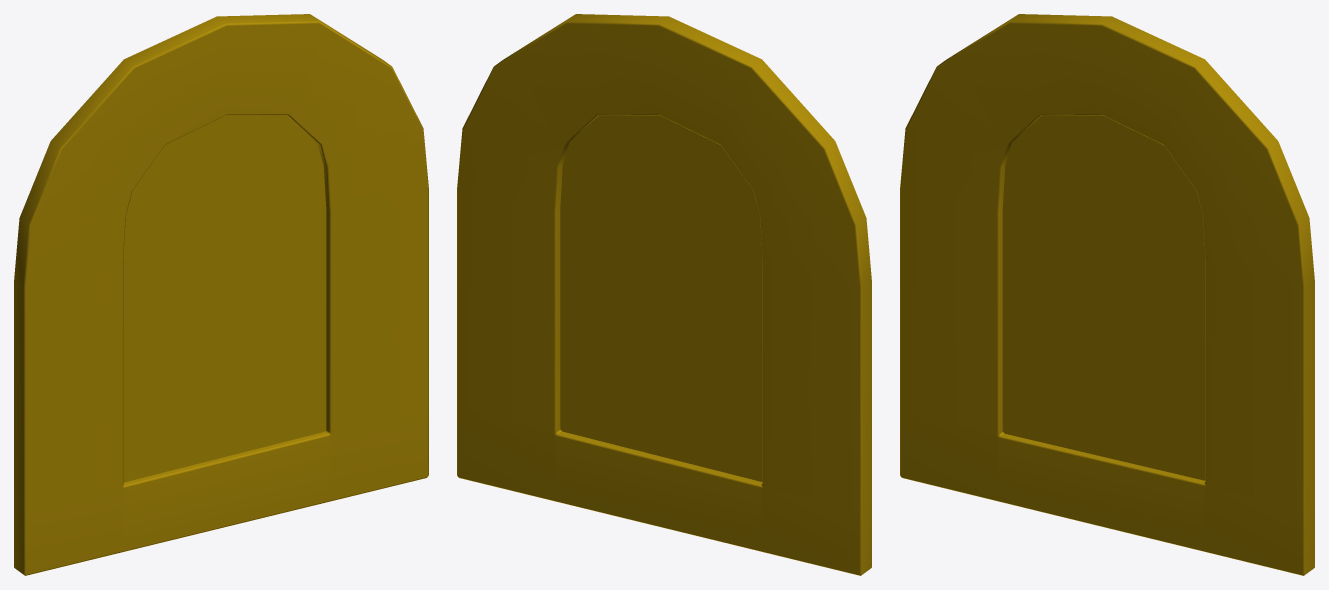
The model's file is HOF Frame and Photo.fbx.
3 views of the same model, side by side, from view 1: azimuth 30°, elevation 25°; view 2: azimuth 150°, elevation 25°; view 3: azimuth 330°, elevation 25° (orthographic).
Visible parts, largest first — view 1: Hall_of_fame_frame, hall_of_fame_photo; view 2: Hall_of_fame_frame, hall_of_fame_photo; view 3: Hall_of_fame_frame, hall_of_fame_photo.
Part boxes in pixels (x1,y1,x2,y2): Hall_of_fame_frame: (14,14,428,575); hall_of_fame_photo: (123,115,326,482); Hall_of_fame_frame: (457,14,871,575); hall_of_fame_photo: (560,115,762,481); Hall_of_fame_frame: (900,14,1314,575); hall_of_fame_photo: (1002,115,1205,480).
Size of the model in its own units: 34.68 by 41.17 by 1.69.
